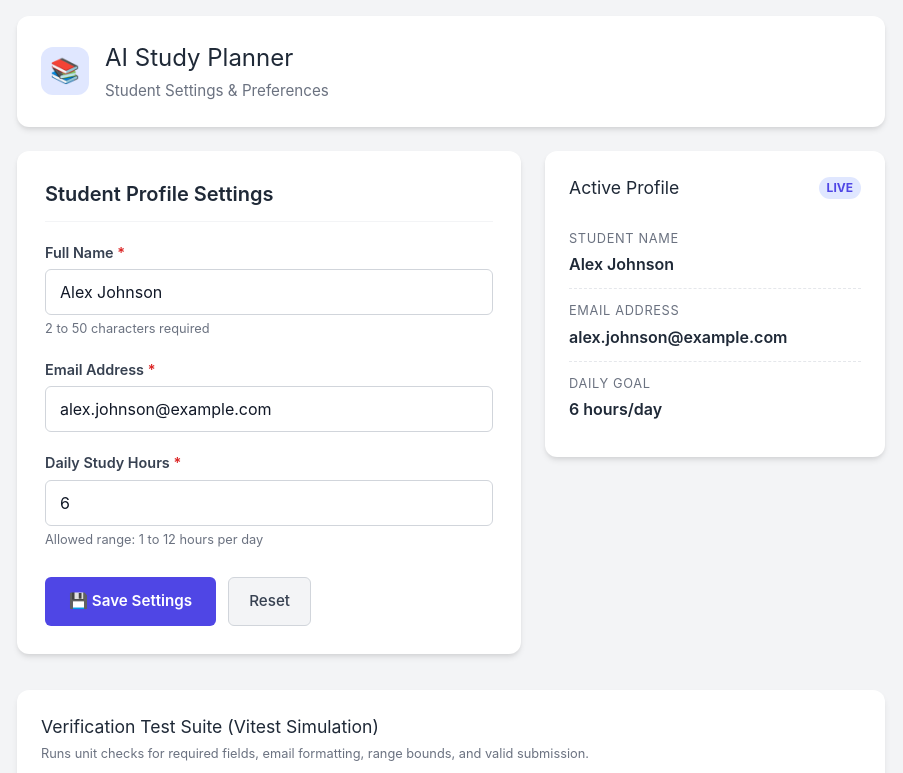
Test: Student Settings Form › rejects study hours outside the 1 to 12 range
Replace the text in the number field labelled "Daily Study Hours *" with "15": (269, 503) 45,480 -> 493,526
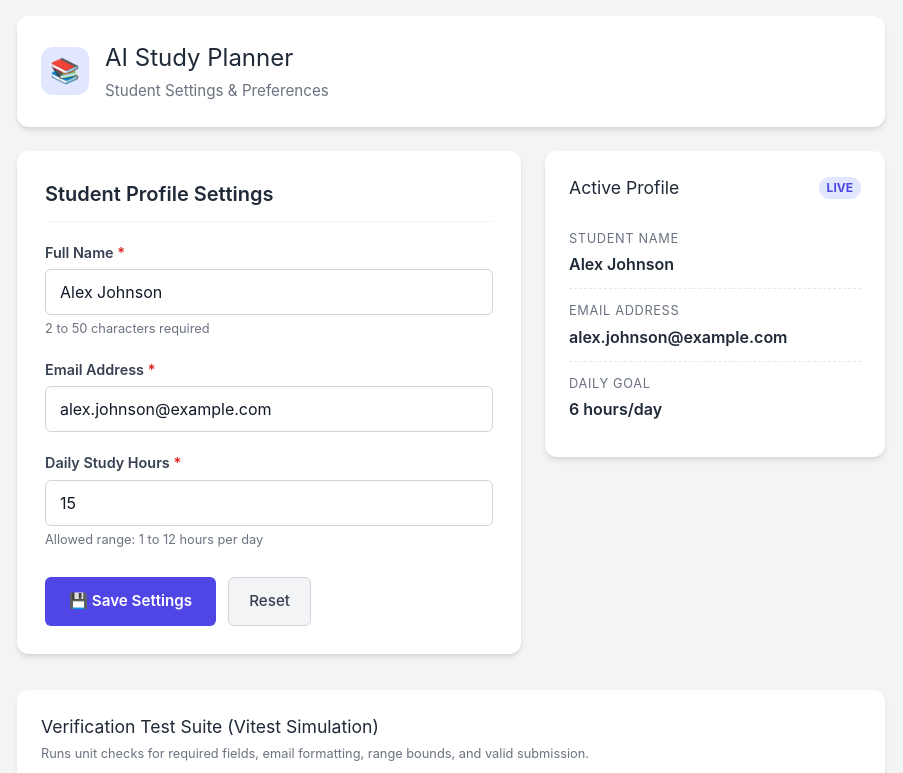
Click the button "💾 Save Settings": (131, 601) 45,577 -> 216,626
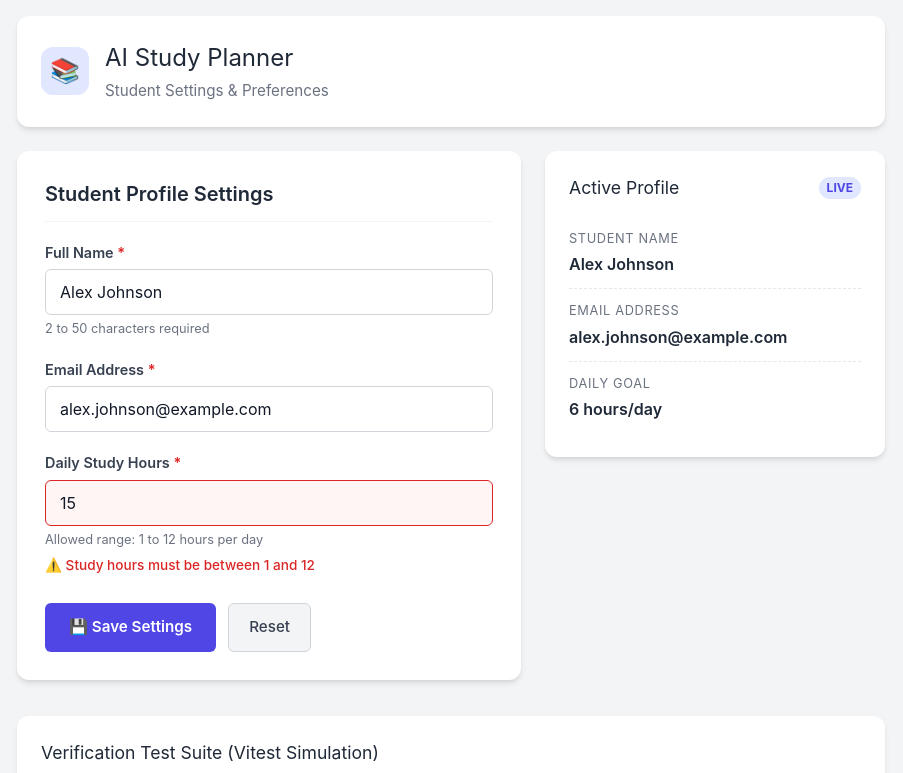
Check: the text "⚠️ Study hours must be between 1 and 12" is shown, box 45,557 -> 315,573
